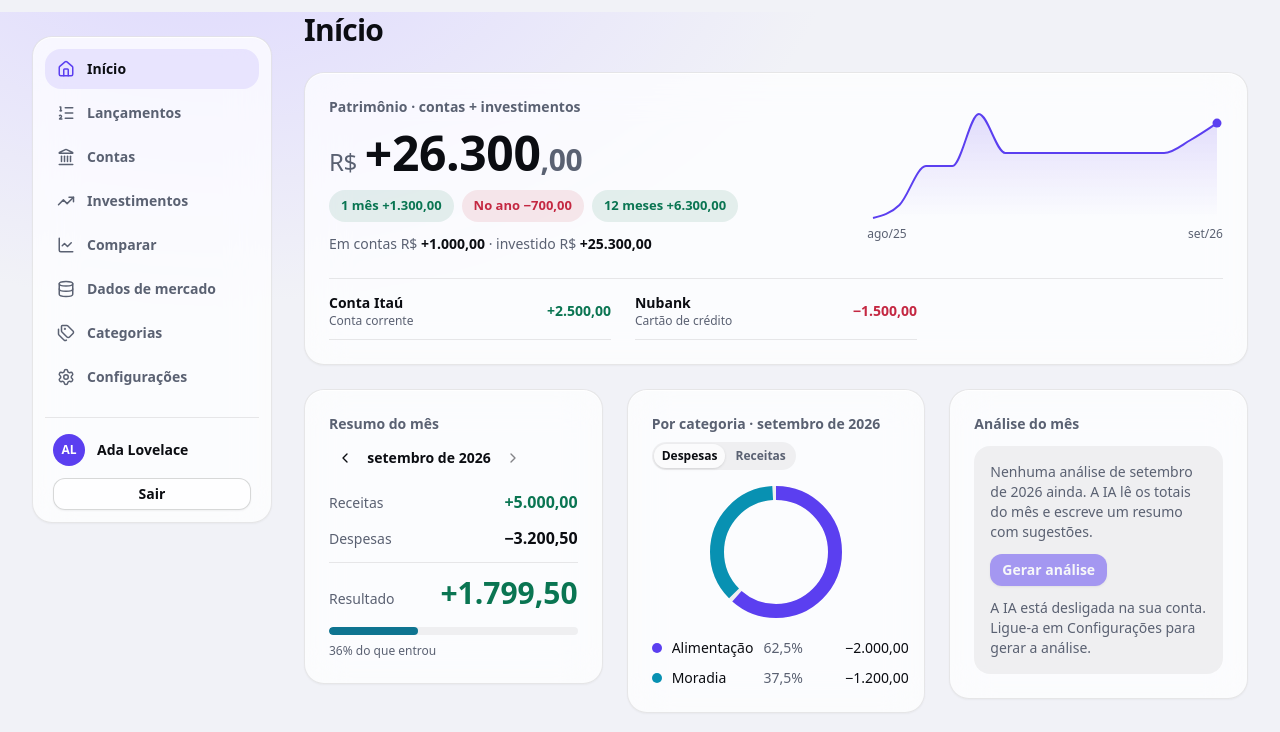
Scenario: DashboardPage › switches the category chart with the kind toggle
This screenshot has width=1280, height=732.
Expected: the text "Alimentação" is shown, [672,638,754,658]
Expected: the text "62,5%" is shown, [763,638,803,658]
Click the button "Receitas": click(761, 456) [728,444,794,468]
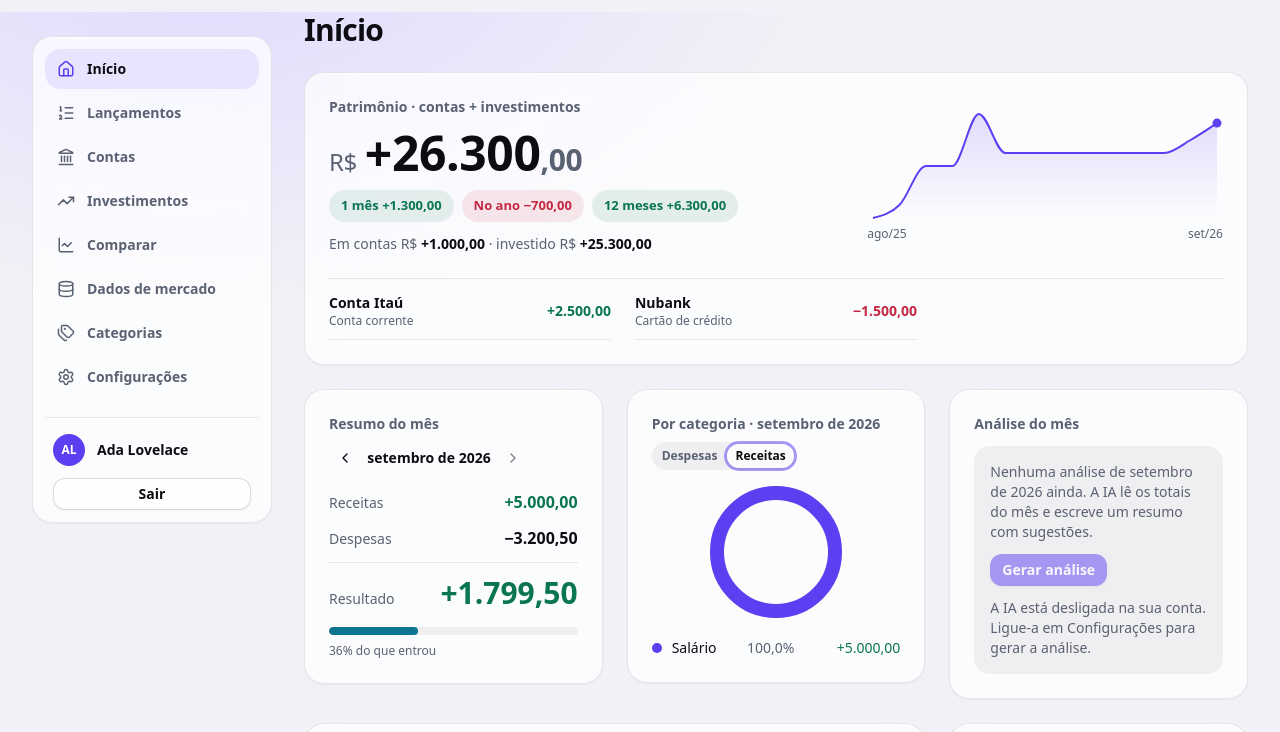
Expected: the text "Salário" is shown, [672,638,717,656]
Expected: the text "Alimentação" is gone
